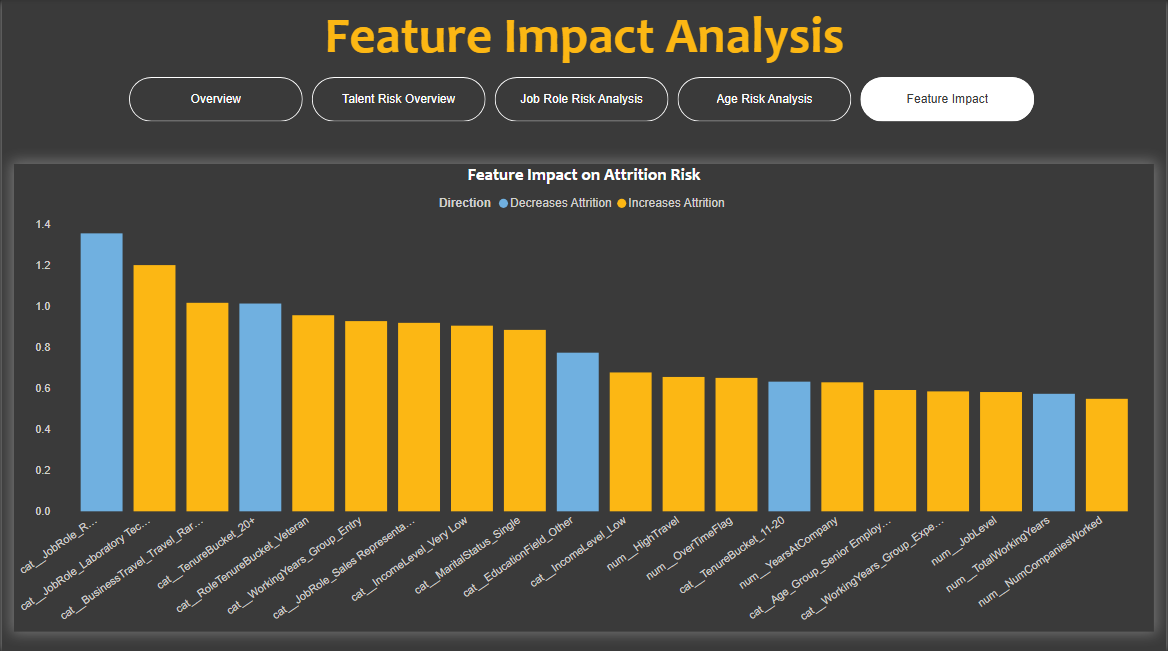

The page's visual inventory and layout, read from the dashboard file:
{"tool":"powerbi","page":{"name":"Feature Impact","canvas":[1280,720],"ordinal":4},"visuals":[{"type":"columnChart","title":"Feature Impact on Attrition Risk","fields":{"Category":["feature_importance.Feature"],"Y":["Sum(feature_importance.Abs_Impact)"],"Series":["feature_importance.Direction"]},"box":[13.4,181.4,1253,514.1],"z":0},{"type":"pageNavigator","box":[139.6,85.7,999.2,49.5],"z":1000},{"type":"textbox","box":[0,0,1280,85.5],"z":2000}]}

Visuals, with their boxes in screenshot pixels (x1, y1, x2, y2), scaled from the page's 1280x720 canvas onto the 1168x651 screenshot:
"Feature Impact on Attrition Risk" columnChart: {"left": 12, "top": 164, "right": 1156, "bottom": 629}
pageNavigator: {"left": 127, "top": 77, "right": 1039, "bottom": 122}
textbox: {"left": 0, "top": 0, "right": 1167, "bottom": 77}
